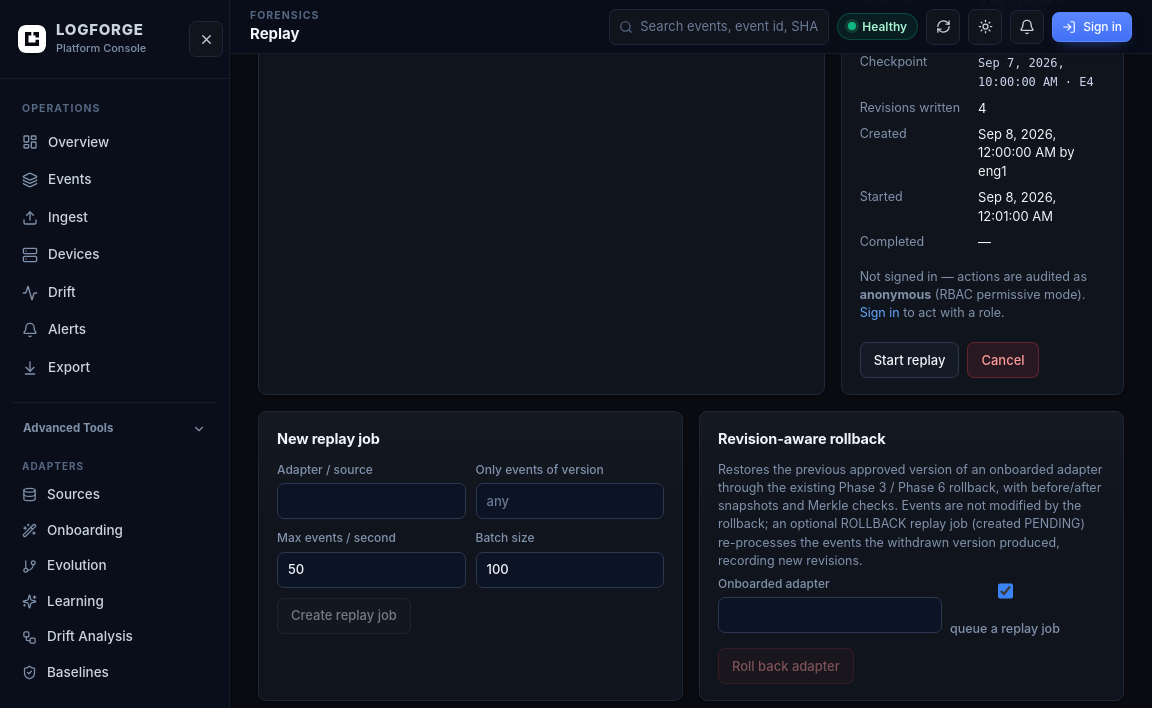
Test case: replay and forensics › a large pending replay explains the maker-checker start rule
(page scrolled)
Click the button "Start replay".
click(910, 360)  # box x1=860 y1=342 x2=960 y2=378
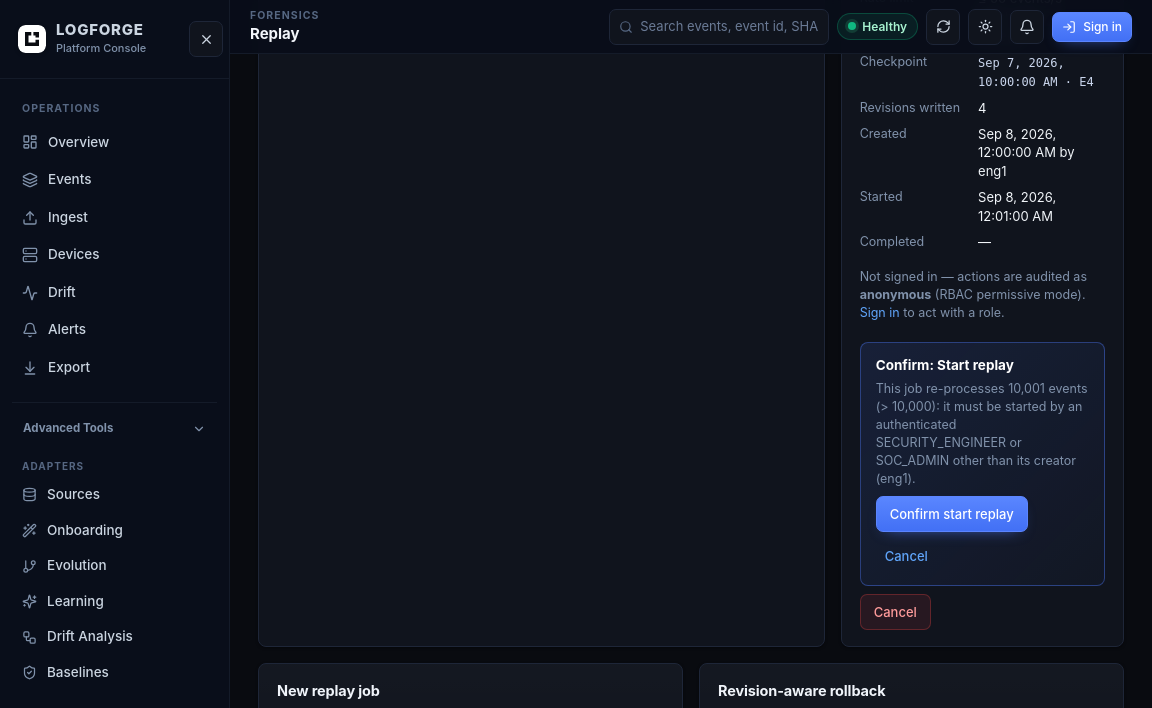
Now the text "other than its creator (eng1)" is shown, box x1=876 y1=381 x2=1088 y2=486
